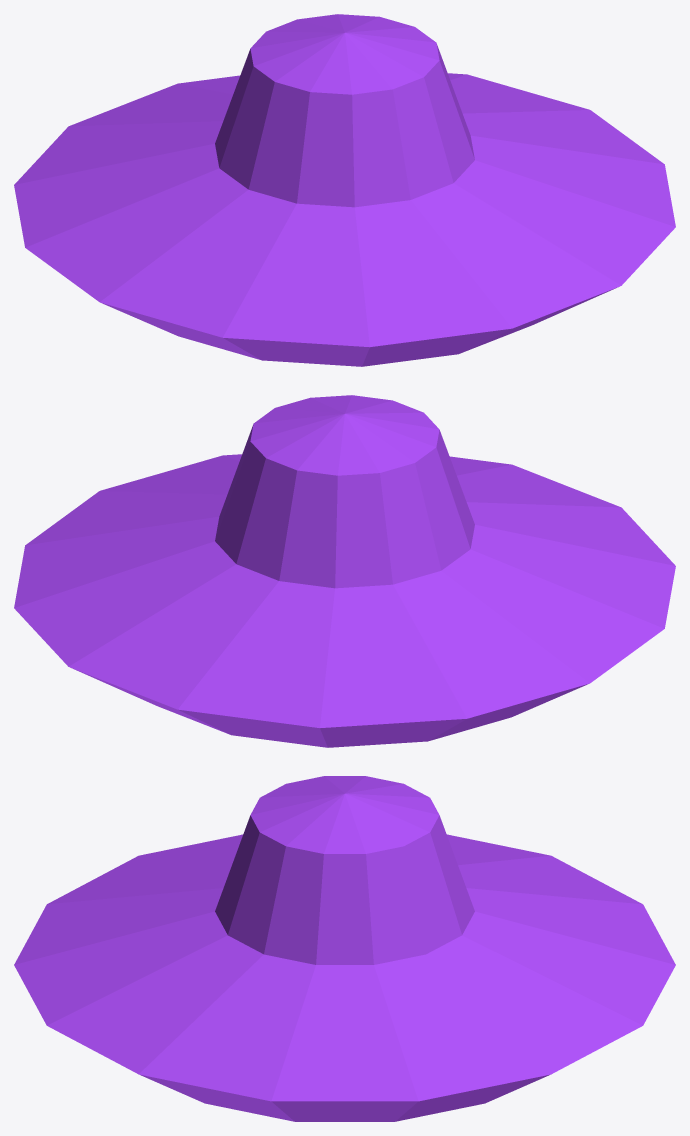
Rendered from arcade.saucer.glb.
3 views of the same model, one above another, from view 1: azimuth 30°, elevation 25°; view 2: azimuth 150°, elevation 25°; view 3: azimuth 270°, elevation 25° (orthographic).
Parts seen in each view (by area): view 1: arcade.saucer; view 2: arcade.saucer; view 3: arcade.saucer.
Boxes of the visible parts, left/top/right/bottom form: arcade.saucer: left=14, top=14, right=675, bottom=366; arcade.saucer: left=14, top=395, right=675, bottom=747; arcade.saucer: left=14, top=776, right=675, bottom=1121.
Bounding box in the file's own units: 2.73 × 1.16 × 2.8.
